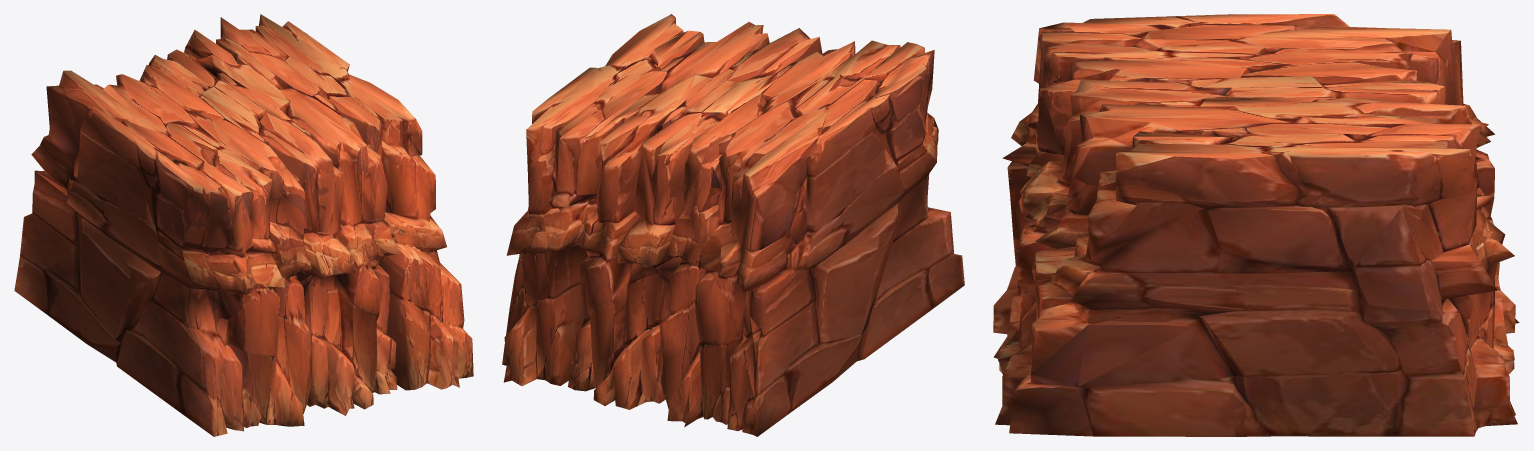
File: cliff.glb
3 views of the same model, side by side, from view 1: azimuth 30°, elevation 25°; view 2: azimuth 150°, elevation 25°; view 3: azimuth 270°, elevation 25° (orthographic). The views are drawn at different scales.
Visible parts, largest first — view 1: CliffMesh; view 2: CliffMesh; view 3: CliffMesh.
Part boxes in pixels (bbox=[...]): CliffMesh: bbox=[14, 14, 473, 436]; CliffMesh: bbox=[502, 14, 964, 436]; CliffMesh: bbox=[993, 14, 1519, 436].
Size of the model in its own units: 8.23 by 7.16 by 12.18.
Materials: 1 (1 with a texture image).
